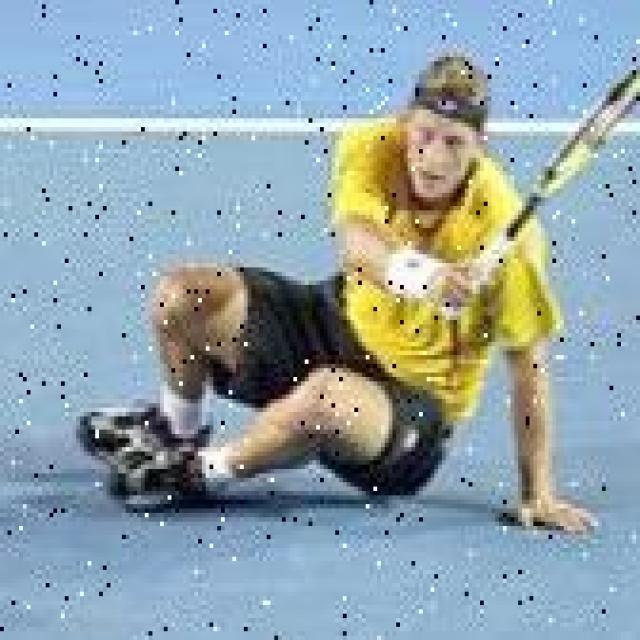fall: (84, 70, 564, 509)
